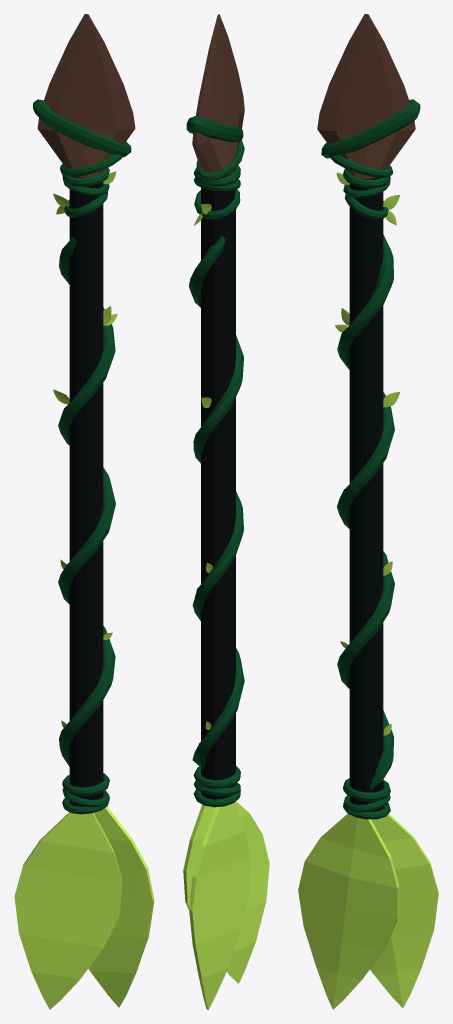
File: arrow.fbx
The picture shows the model from 3 angles, left to right: view 1: azimuth 90°, elevation 25°; view 2: azimuth 150°, elevation 25°; view 3: azimuth 270°, elevation 25°; orthographic projection.
Visible parts, largest first — view 1: arrow; view 2: arrow; view 3: arrow.
Boxes of the visible parts, bbox=[...] form: arrow: bbox=[14, 14, 154, 1009]; arrow: bbox=[183, 14, 269, 1009]; arrow: bbox=[298, 14, 438, 1009].
Size of the model in its own units: 0.5016 by 10.11 by 1.29.
